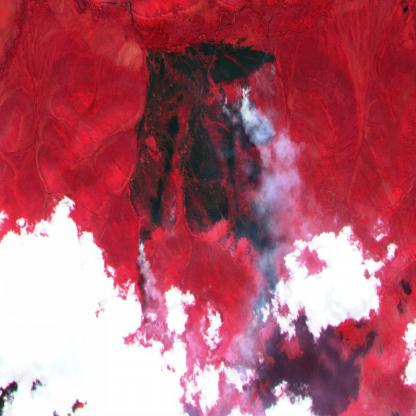fire: (221, 79, 255, 124), (133, 229, 149, 277), (268, 49, 276, 82)
